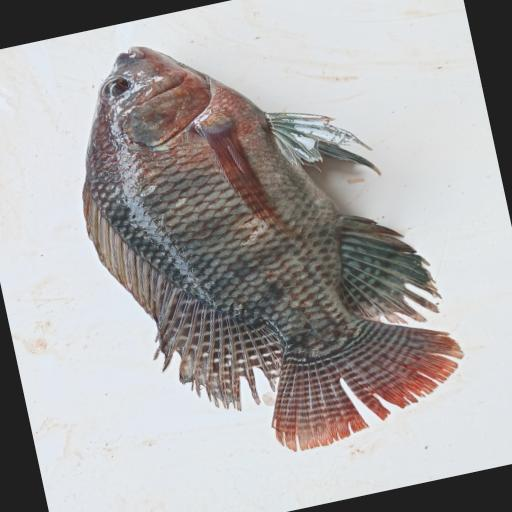Tilapia: (50, 0, 476, 484)
